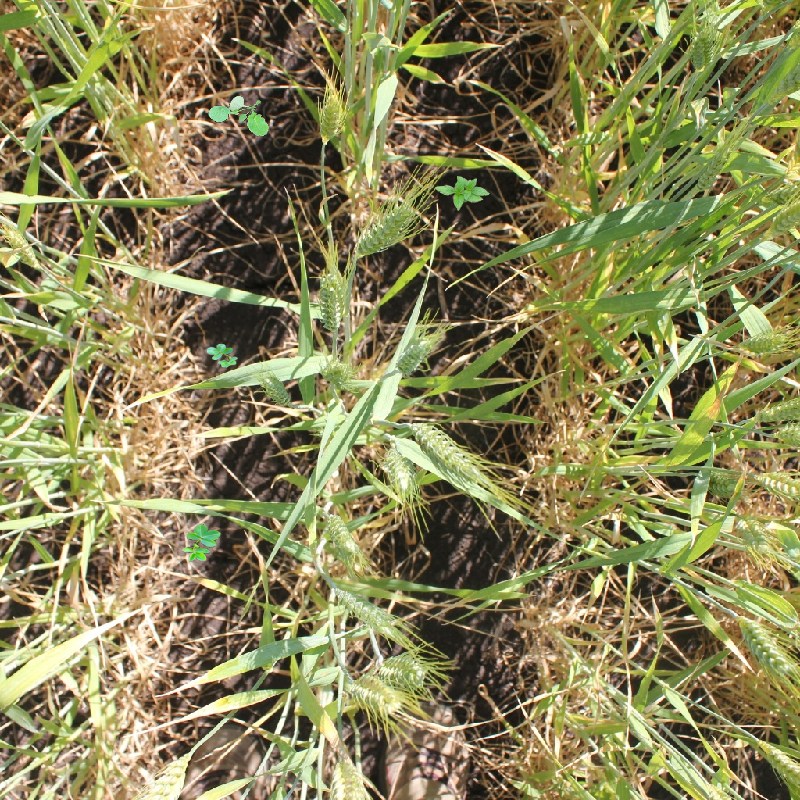spikelet: (408, 418, 488, 482), (738, 615, 798, 677), (352, 202, 415, 258), (121, 752, 191, 799), (328, 585, 396, 631), (346, 672, 404, 713), (322, 512, 364, 565), (391, 331, 439, 376), (327, 756, 376, 799), (756, 739, 800, 785), (316, 269, 348, 331), (2, 226, 44, 271), (379, 446, 417, 495), (377, 653, 428, 688), (317, 86, 345, 142), (687, 22, 719, 70), (738, 326, 788, 356), (754, 468, 799, 501), (734, 515, 773, 553), (766, 196, 799, 237), (757, 393, 800, 423), (706, 778, 758, 800), (261, 373, 293, 406), (320, 356, 355, 386), (774, 420, 800, 449)
weed: (206, 84, 277, 155), (435, 176, 490, 211), (182, 524, 221, 562), (206, 344, 238, 368)
